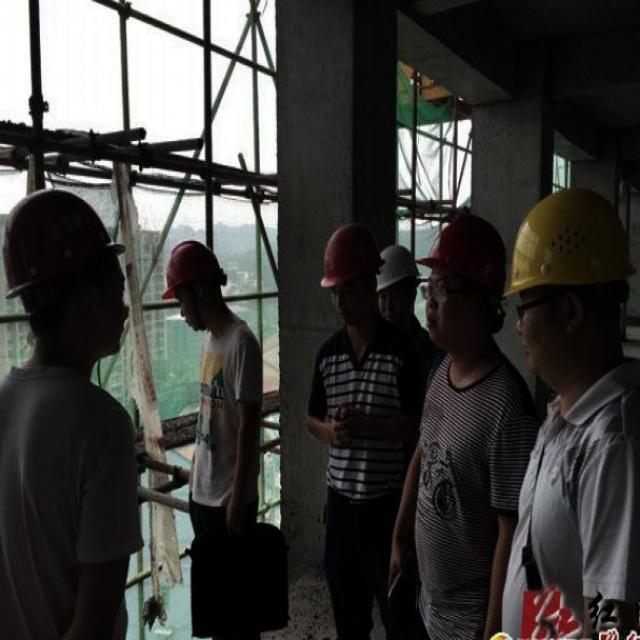helmet: (495, 171, 632, 373), (0, 185, 137, 358), (431, 195, 503, 356), (308, 215, 375, 329), (159, 229, 228, 334), (374, 232, 417, 332)
